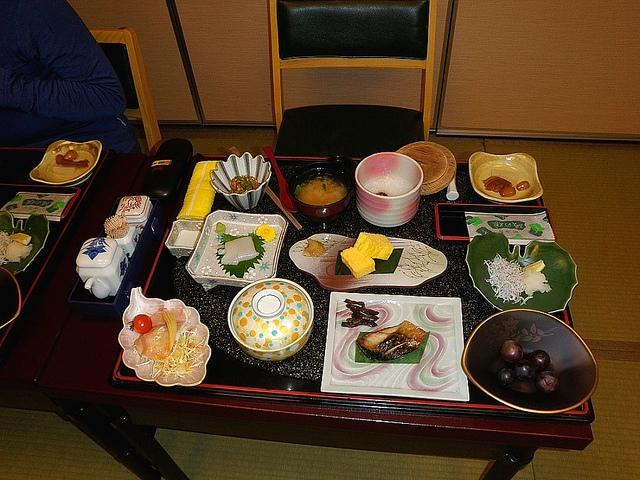tomato: (126, 314, 152, 334)
